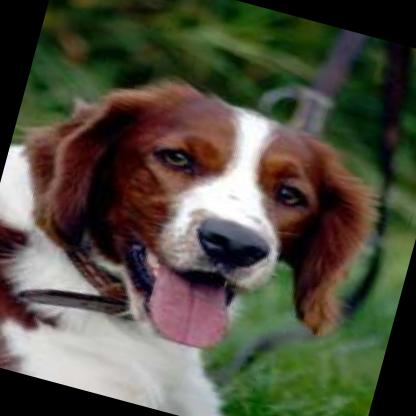Welsh_springer_spaniel: (0, 34, 407, 416)
